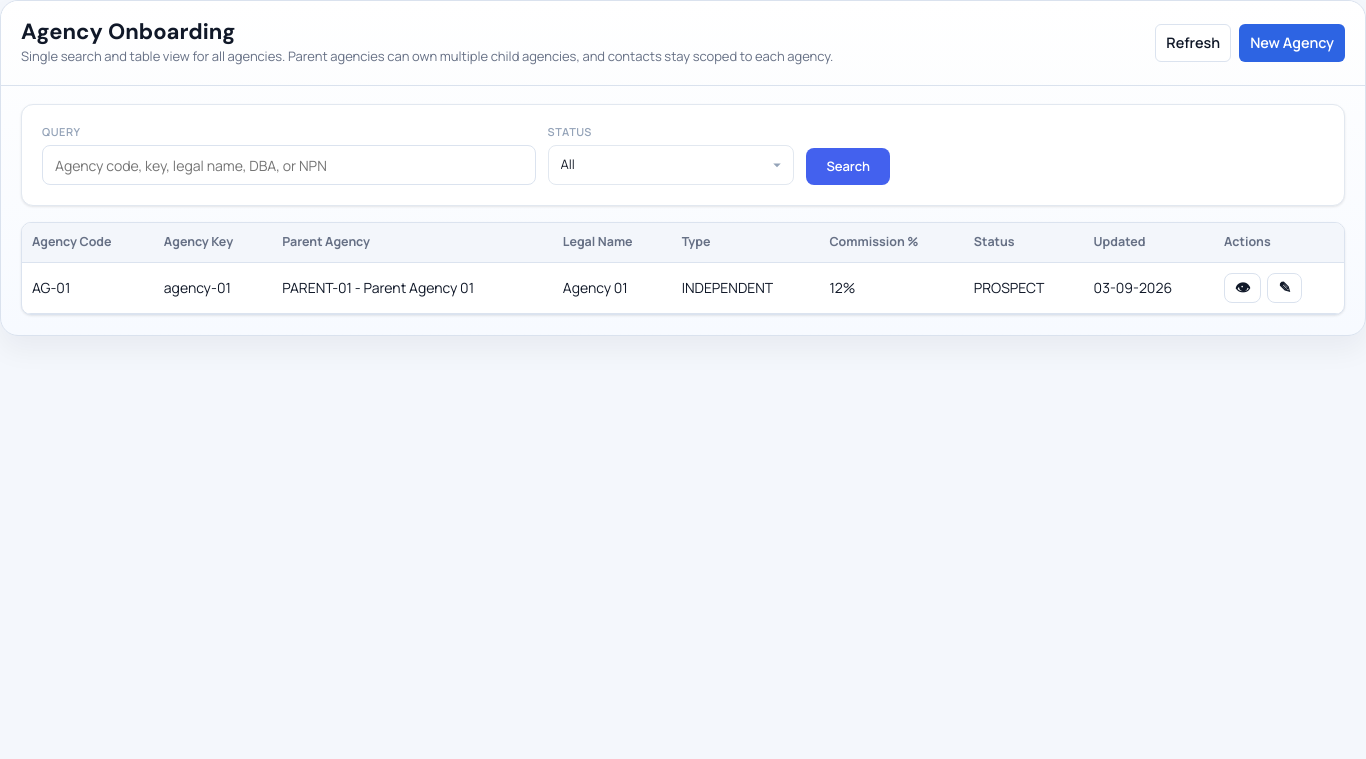
it: AgencyOnboardingPage › shows child agencies and navigates to child edit
The image size is (1366, 759).
Click the button named "View agency AG-01" at (1243, 288), box [1224,273,1261,303]
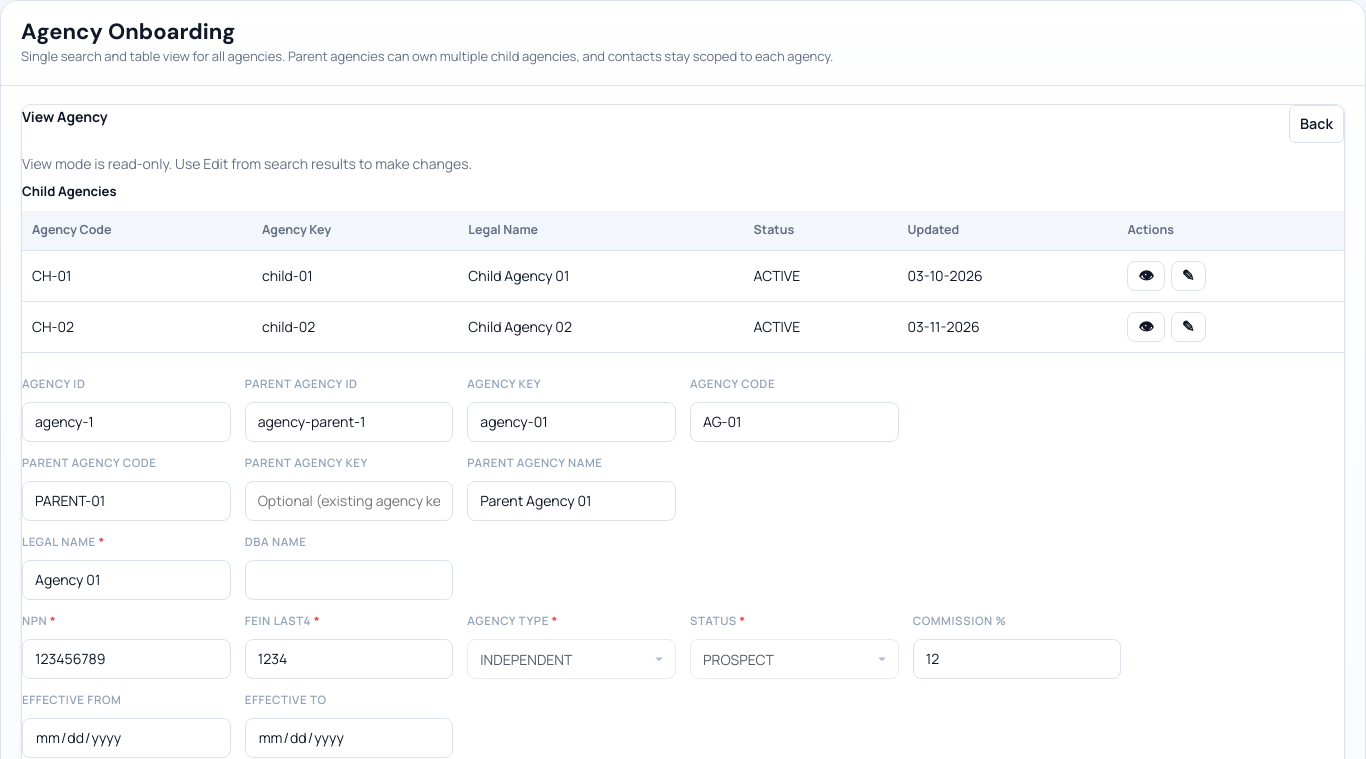
Result: the text "Child Agency 01" is shown at [458,251,744,302]
Click the button named "Edit child agency CH-01" at (1188, 276), box [1171,261,1206,291]
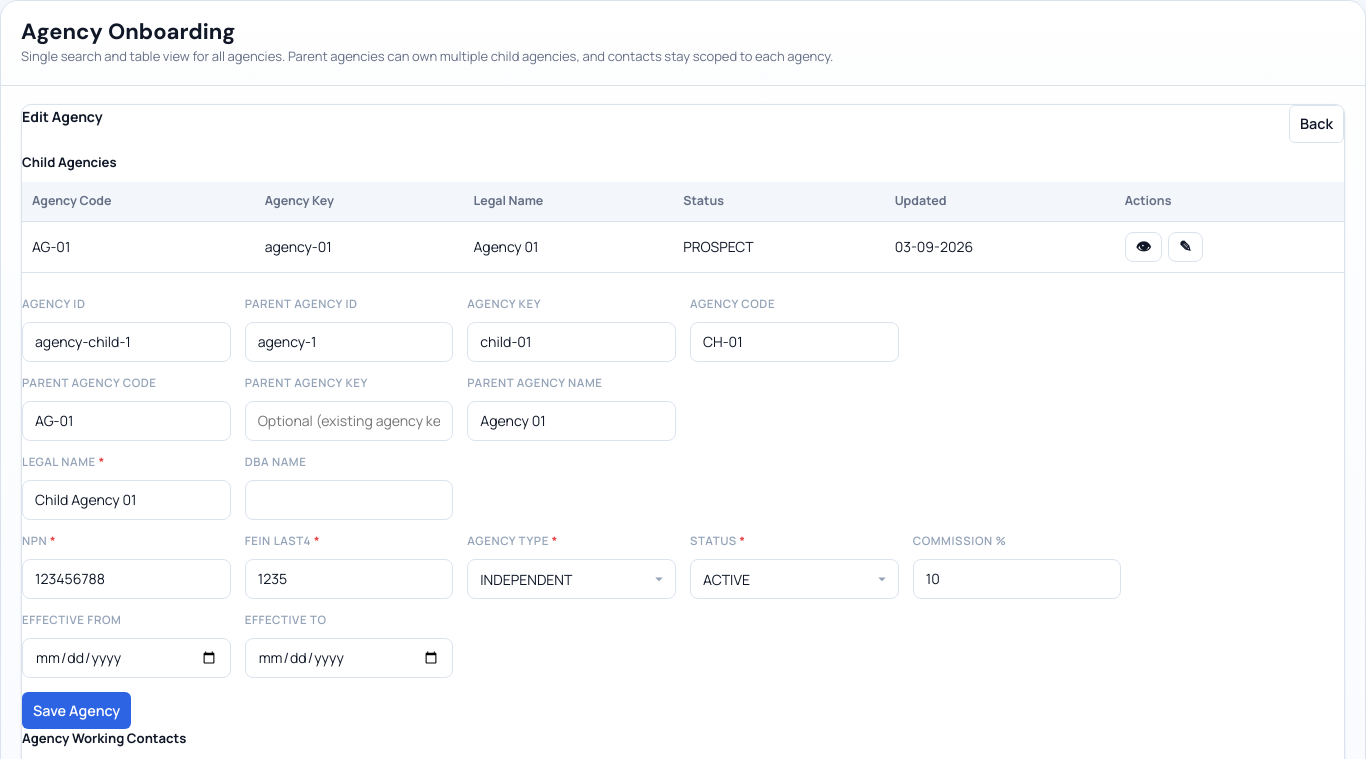
Result: the heading "Edit Agency" is shown at [22,106,102,127]
Result: the 1st field showing "agency-child-1" is shown at [22,322,231,362]
